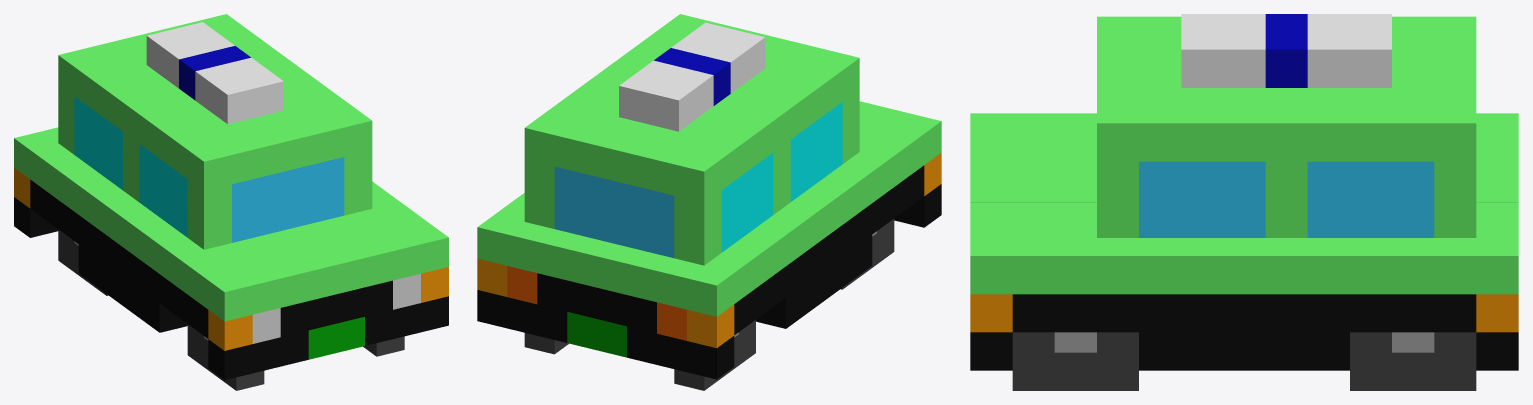
Rendered from Taxi.fbx.
The picture shows the model from 3 angles, left to right: view 1: azimuth 30°, elevation 25°; view 2: azimuth 150°, elevation 25°; view 3: azimuth 270°, elevation 25°; orthographic projection. The views are drawn at different scales.
Visible parts, largest first — view 1: 立方体.475, 立方体.209, 立方体.421, 立方体.013, 立方体.367, 立方体.105, 立方体.313, 立方体.212, 立方体.425, 立方体.210, 立方体.211, 立方体.423 (+132 smaller); view 2: 立方体.483, 立方体.469, 立方体.305, 立方体.201, 立方体.097, 立方体.361, 立方体.415, 立方体.312, 立方体.471, 立方体.473, 立方体.310, 立方体.311 (+120 smaller); view 3: 立方体.216, 立方体.264, 立方体.312, 立方体.444, 立方体.478, 立方体.224, 立方体.232, 立方体.248, 立方体.256, 立方体.272, 立方体.280, 立方体.296 (+123 smaller).
Boxes of the visible parts, x1,y1,x2,y2 form: 立方体.475: (211, 76, 255, 124); 立方体.209: (208, 273, 252, 321); 立方体.421: (187, 143, 231, 190); 立方体.013: (208, 339, 252, 380); 立方体.367: (187, 179, 231, 220); 立方体.105: (208, 310, 252, 350); 立方体.313: (187, 209, 231, 249); 立方体.212: (293, 253, 336, 300); 立方体.425: (300, 116, 344, 163); 立方体.210: (236, 266, 280, 314); 立方体.211: (265, 260, 308, 307); 立方体.423: (244, 129, 288, 177); 立方体.483: (649, 80, 696, 131); 立方体.469: (674, 151, 721, 202); 立方体.305: (687, 265, 734, 316); 立方体.201: (687, 304, 734, 348); 立方体.097: (687, 336, 734, 379); 立方体.361: (674, 222, 721, 265); 立方体.415: (674, 190, 721, 234); 立方体.312: (477, 214, 524, 265); 立方体.471: (614, 137, 661, 188); 立方体.473: (554, 122, 601, 173); 立方体.310: (537, 229, 583, 280); 立方体.311: (507, 222, 554, 272); 立方体.216: (970, 238, 1012, 294); 立方体.264: (1223, 238, 1265, 294); 立方体.312: (1476, 238, 1518, 294); 立方体.444: (1223, 105, 1265, 161); 立方体.478: (1223, 31, 1265, 87); 立方体.224: (1012, 238, 1054, 294); 立方体.232: (1054, 238, 1096, 294); 立方体.248: (1139, 238, 1181, 294); 立方体.256: (1181, 238, 1223, 294); 立方体.272: (1265, 238, 1307, 294); 立方体.280: (1307, 238, 1349, 294); 立方体.296: (1392, 238, 1434, 294).
Bounding box in the file's own units: 800 × 800 × 1300.
